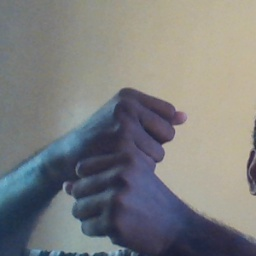G: (67, 83, 189, 242)
